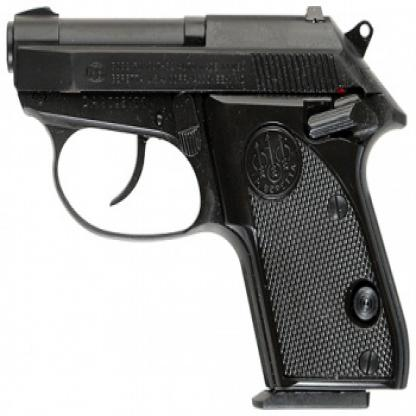Guns: (4, 0, 413, 409)
